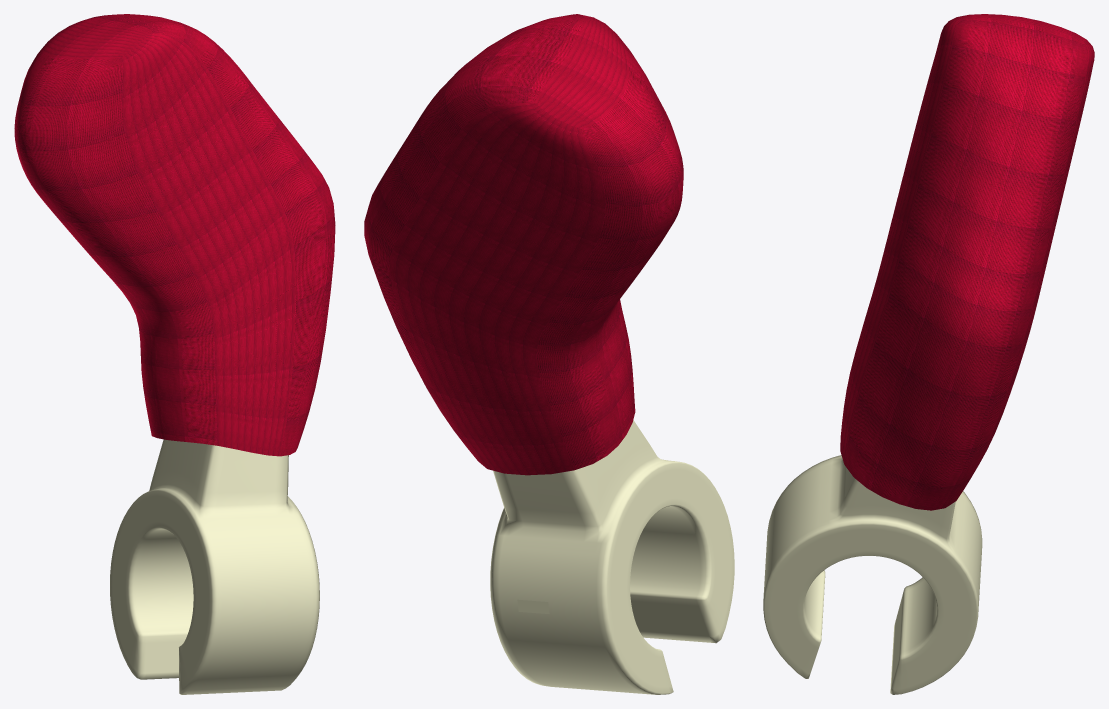
The model's file is brazoizq.obj.
3 renders of one model, left to right at view 1: azimuth 30°, elevation 25°; view 2: azimuth 150°, elevation 25°; view 3: azimuth 270°, elevation 25°, orthographic. The views are drawn at different scales.
Visible parts, largest first — view 1: kevin:Box006; view 2: kevin:Box006; view 3: kevin:Box006.
Boxes of the visible parts, left/top/right/bottom form: kevin:Box006: left=14, top=14, right=335, bottom=694; kevin:Box006: left=364, top=14, right=734, bottom=694; kevin:Box006: left=763, top=14, right=1094, bottom=694.
Size of the model in its own units: 0.6347 by 1.32 by 0.6135.
Materials: 2 (2 with a texture image).
